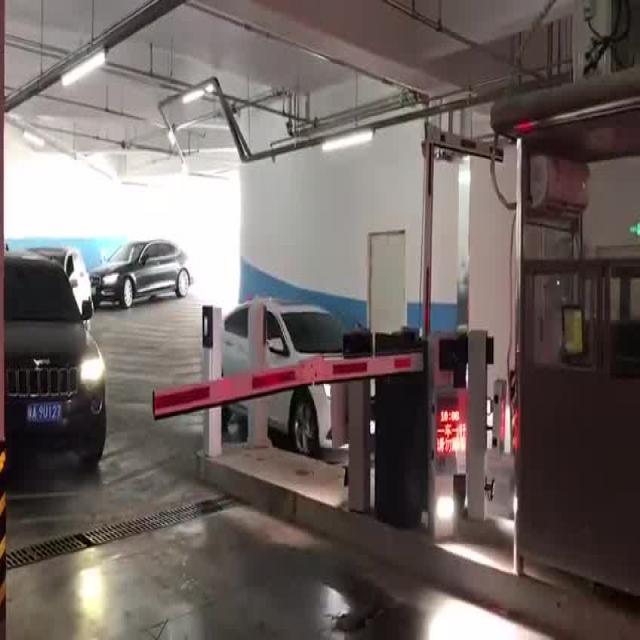CarIn: (190, 294, 388, 442), (1, 264, 113, 457), (75, 241, 210, 307), (10, 245, 96, 320)
GateClosed: (146, 335, 429, 425)
GateOpened: (414, 118, 509, 346)
